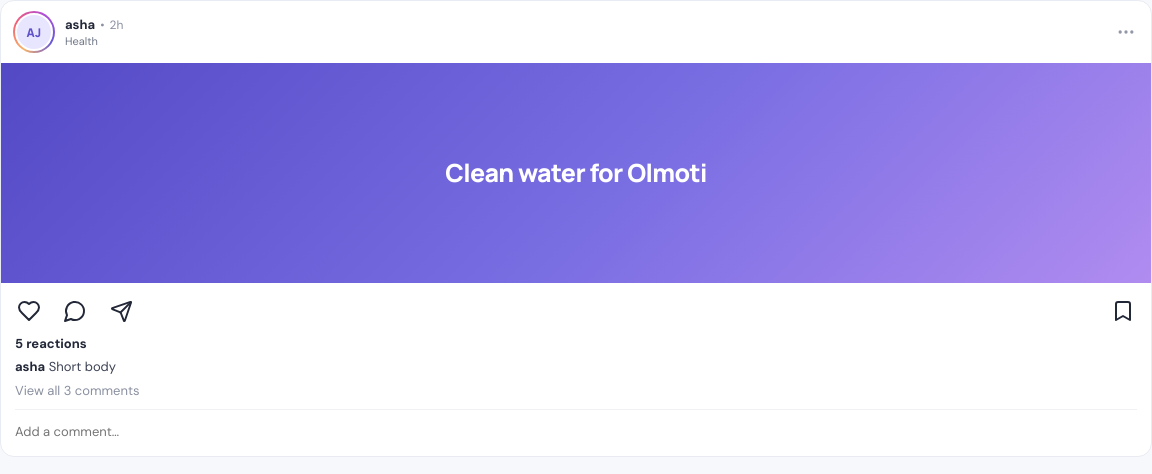
Scenario: FeedPost › rolls the like back if the server refuses
Click the button named "Like" at (29, 311), box [9,291,49,331]
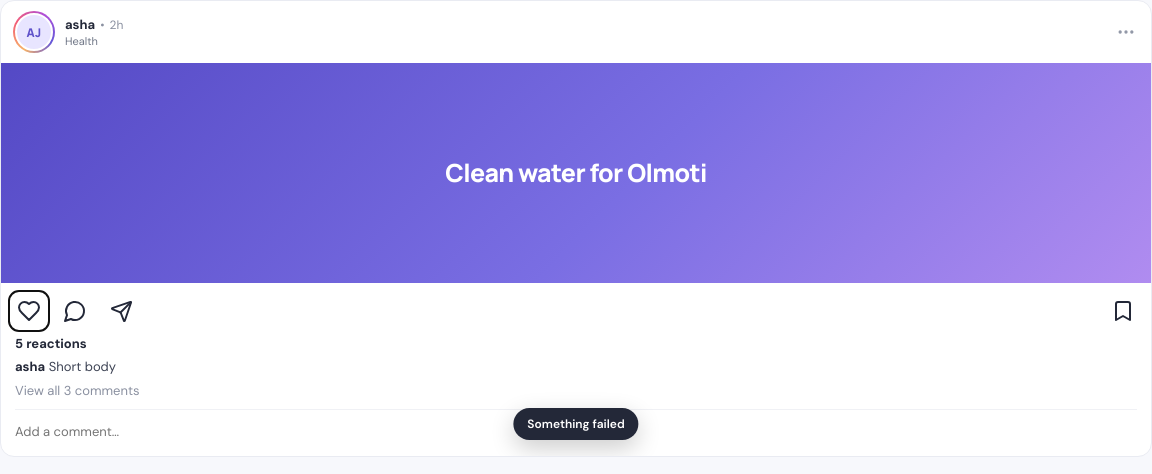
Expected: the text "5 reactions" is shown, [15,335,87,352]
Now the text "Something failed" is shown, box [513,408,639,440]
